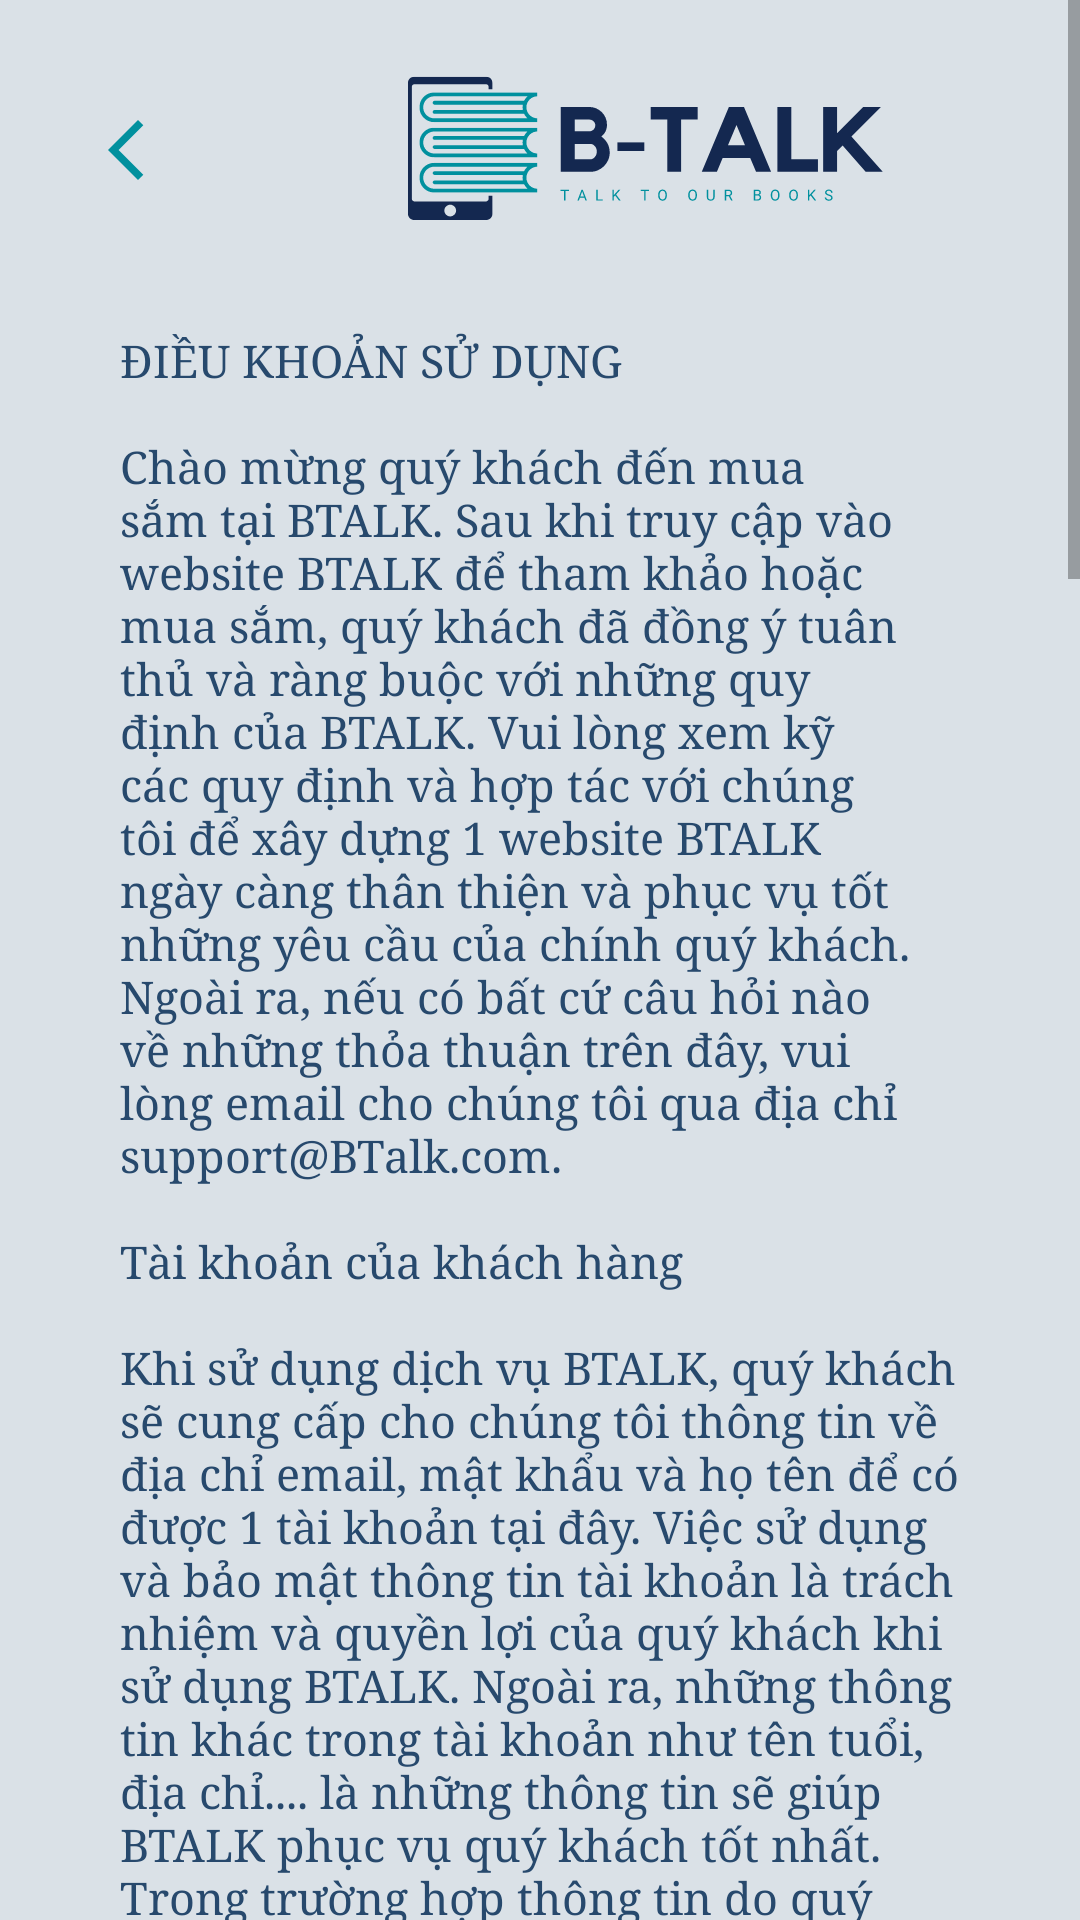

Screen size 1080px x 1920px. Icon name, then its box in pixels as (x1=x1, y1=y1, x2=x2, y2=y2):
back: (x1=108, y1=120, x2=143, y2=180)
